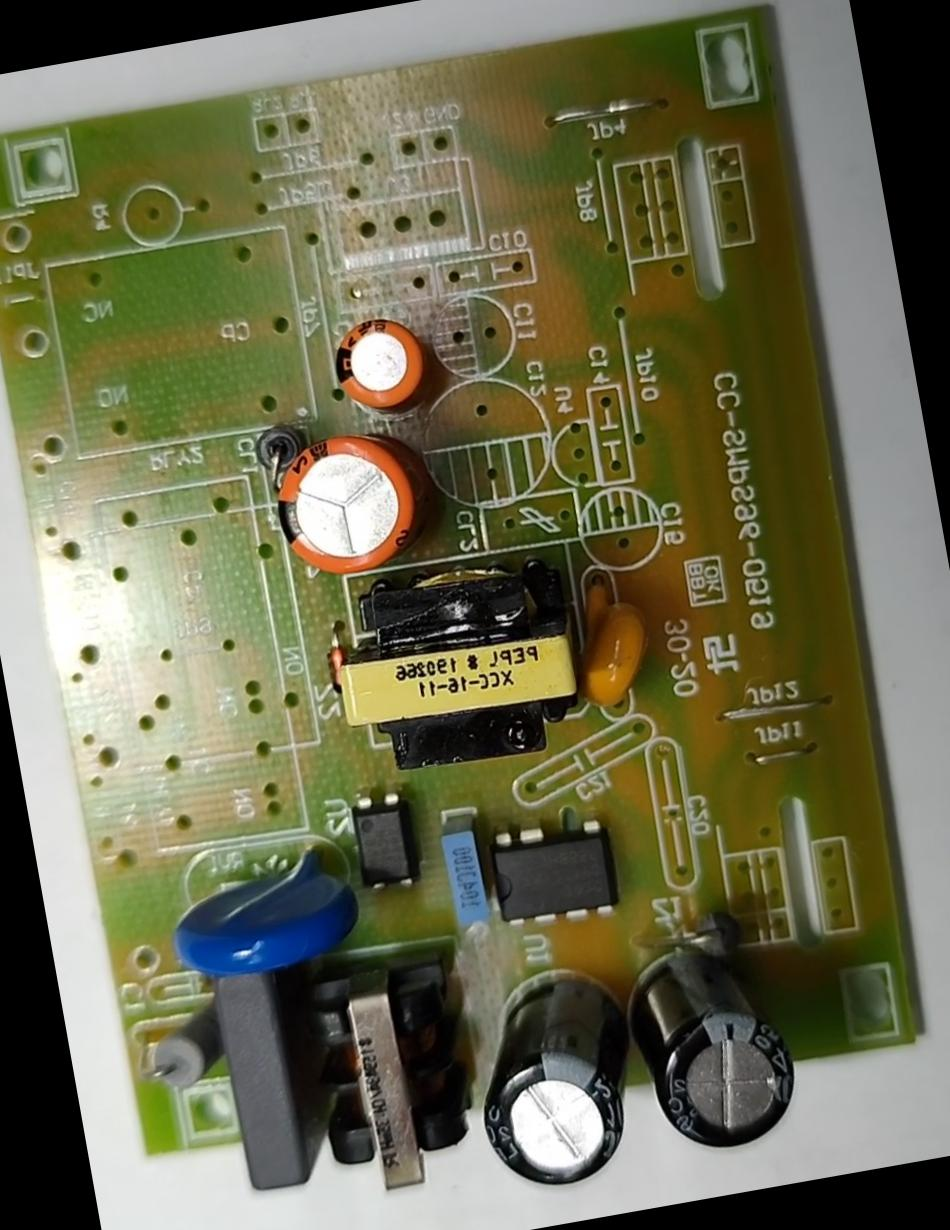Cap1: (257, 410, 434, 586)
Cap2: (322, 310, 439, 420)
Cap3: (450, 949, 661, 1212)
Cap4: (617, 930, 810, 1168)
MOSFET: (481, 810, 624, 938)
Mov: (152, 834, 370, 994)
Resistor: (133, 1001, 231, 1112)
Transformer: (322, 548, 606, 789), (285, 940, 486, 1204)
